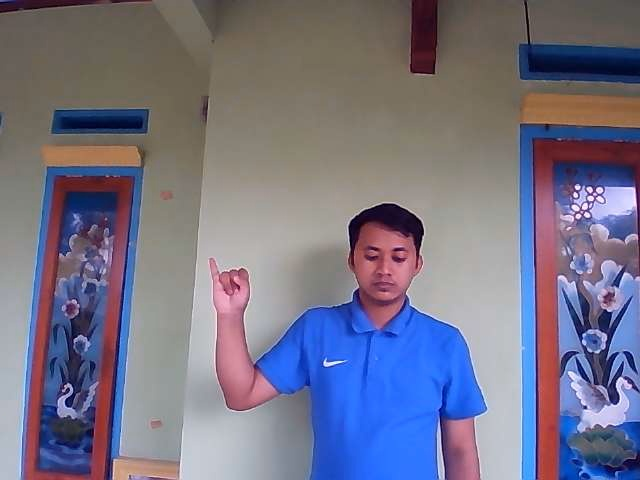I: (207, 257, 255, 312)
